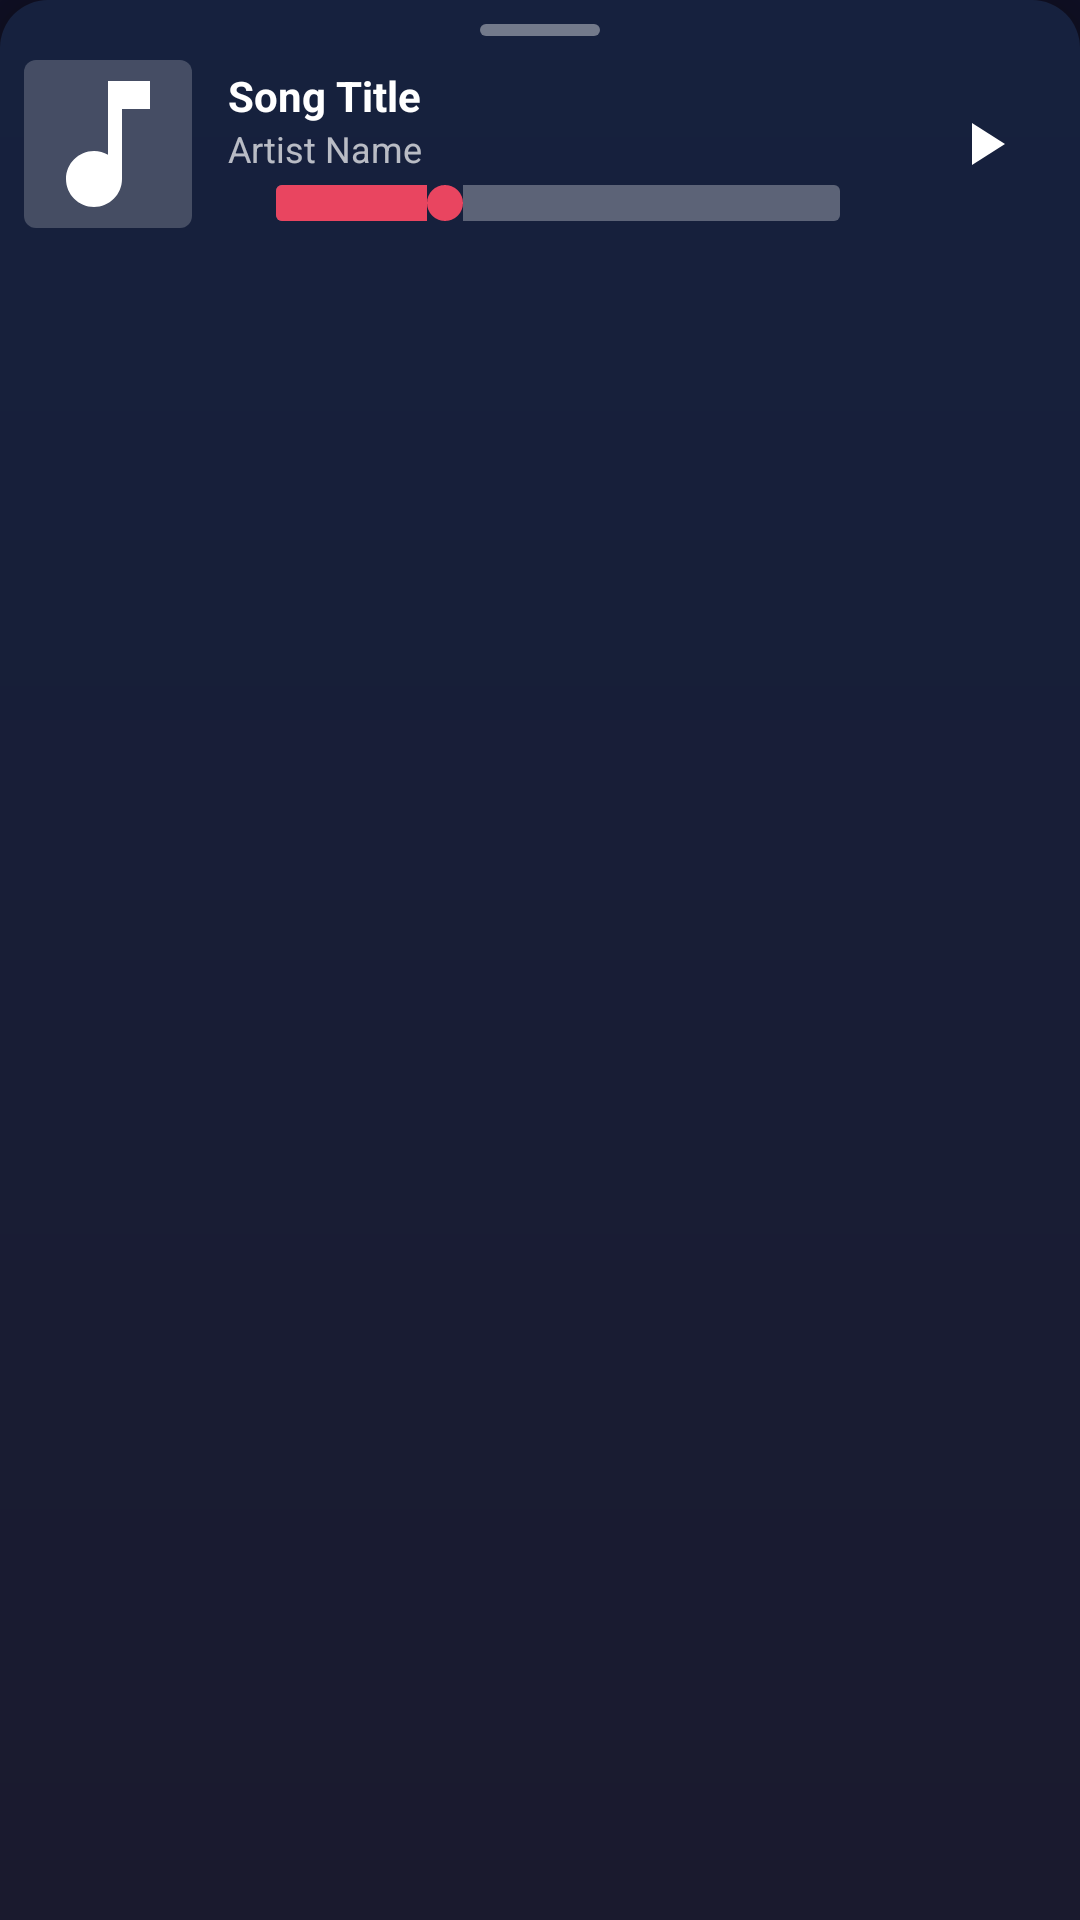

Icons on this 1080*1920 Android screen, each with the point to tap as (x=x, y=y):
Album Art: (x=108, y=144)
Play/Pause: (x=988, y=144)
